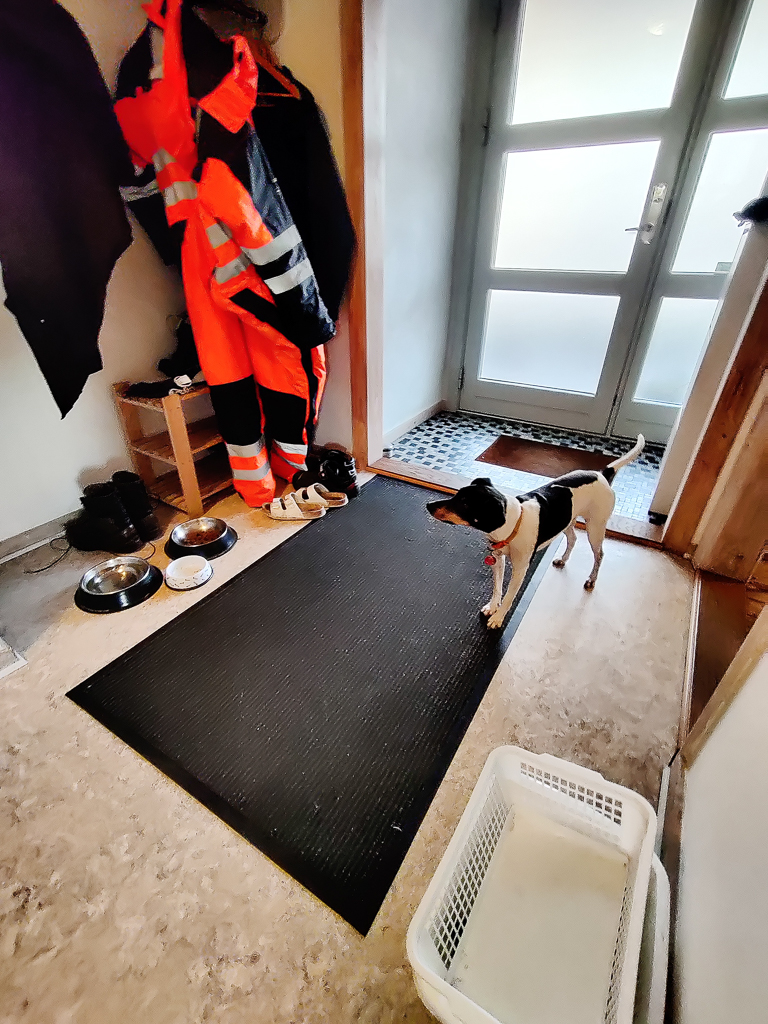Dog: (415, 427, 653, 637)
